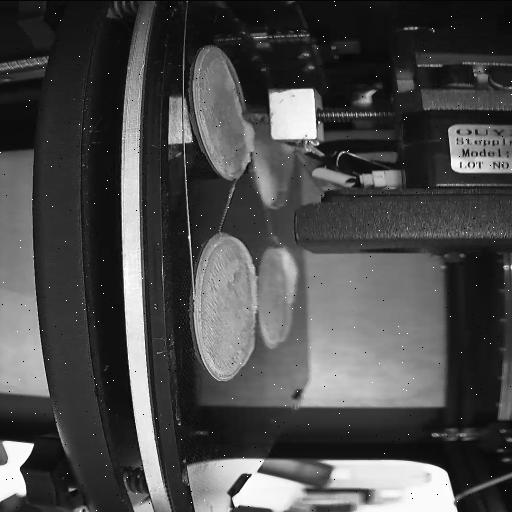over_extrusion: (195, 236, 259, 312), (271, 244, 303, 300), (222, 60, 244, 112), (242, 331, 260, 367), (241, 120, 256, 156), (278, 308, 292, 341)
